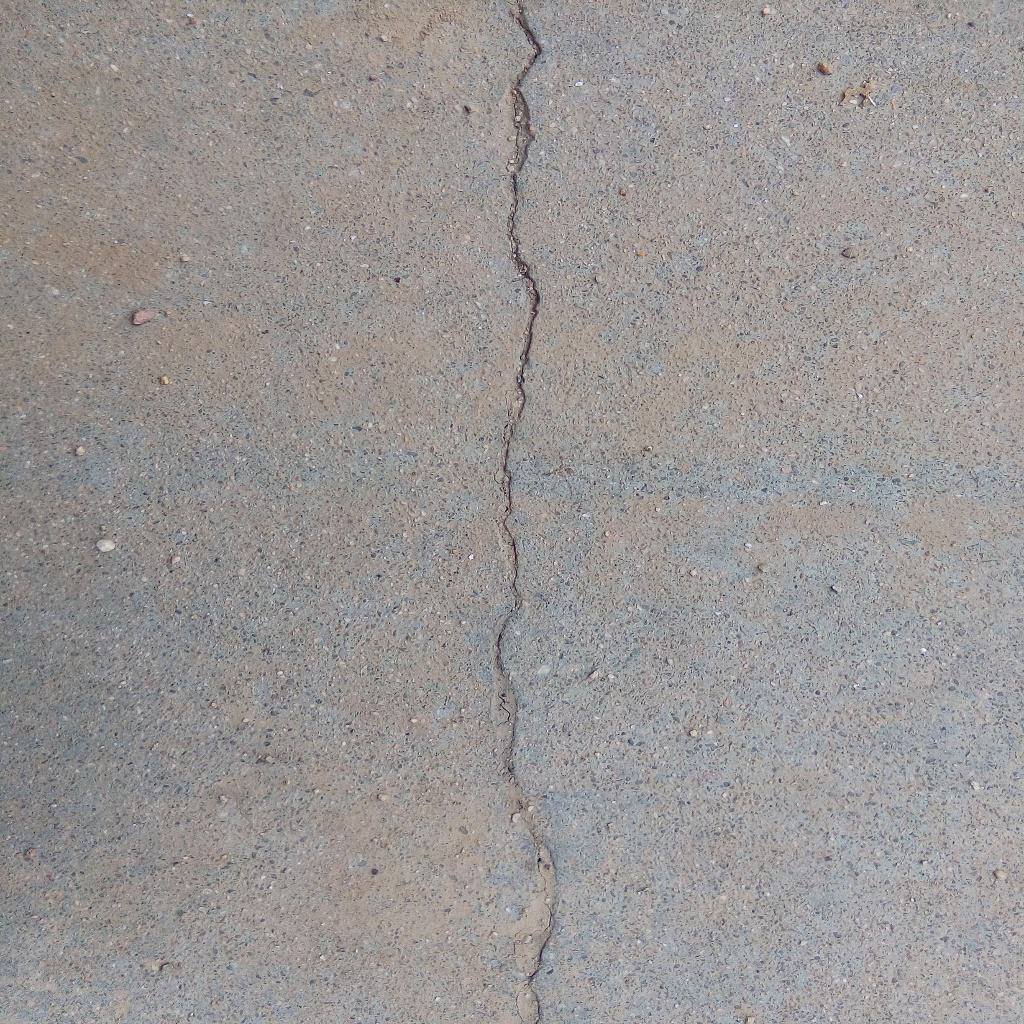Crack: (494, 1, 561, 1024)
